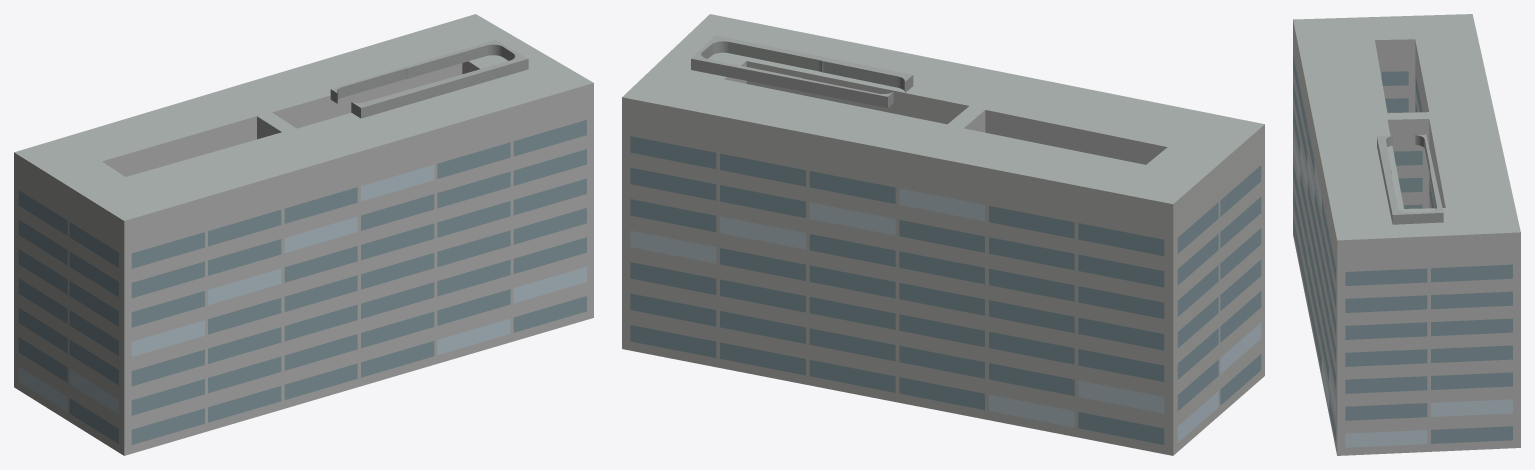
Rendered from named-apt-f09d8086-0177-41ec-b33f-ce2f35422578.glb.
The picture shows the model from 3 angles, left to right: view 1: azimuth 30°, elevation 25°; view 2: azimuth 150°, elevation 25°; view 3: azimuth 270°, elevation 25°; orthographic projection. The views are drawn at different scales.
Visible parts, largest first — view 1: named-apt-f09d8086-0177-41ec-b33f-ce2f35422578; view 2: named-apt-f09d8086-0177-41ec-b33f-ce2f35422578; view 3: named-apt-f09d8086-0177-41ec-b33f-ce2f35422578.
Boxes of the visible parts, x1,y1,x2,y2 form: named-apt-f09d8086-0177-41ec-b33f-ce2f35422578: (14,14,593,455); named-apt-f09d8086-0177-41ec-b33f-ce2f35422578: (622,14,1264,455); named-apt-f09d8086-0177-41ec-b33f-ce2f35422578: (1293,14,1520,455).
Bounding box in the file's own units: 55 × 25.5 × 23.39.
